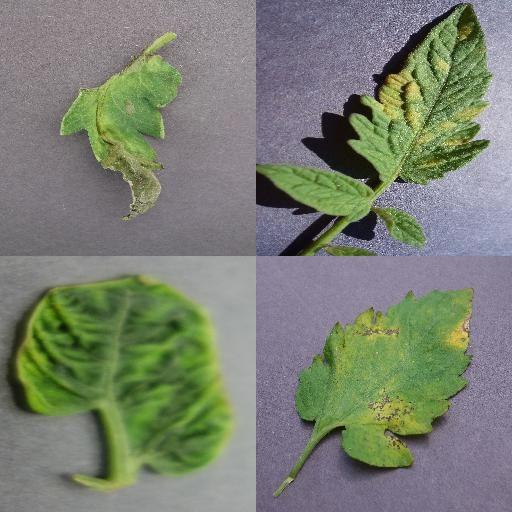Healthy: (256, 162, 374, 218)
Late Blight: (60, 51, 182, 223)
Leaf Mold: (348, 3, 492, 181)
Septoria: (297, 286, 473, 468)
Yellow Leaf Curl Virus: (15, 272, 233, 476)
